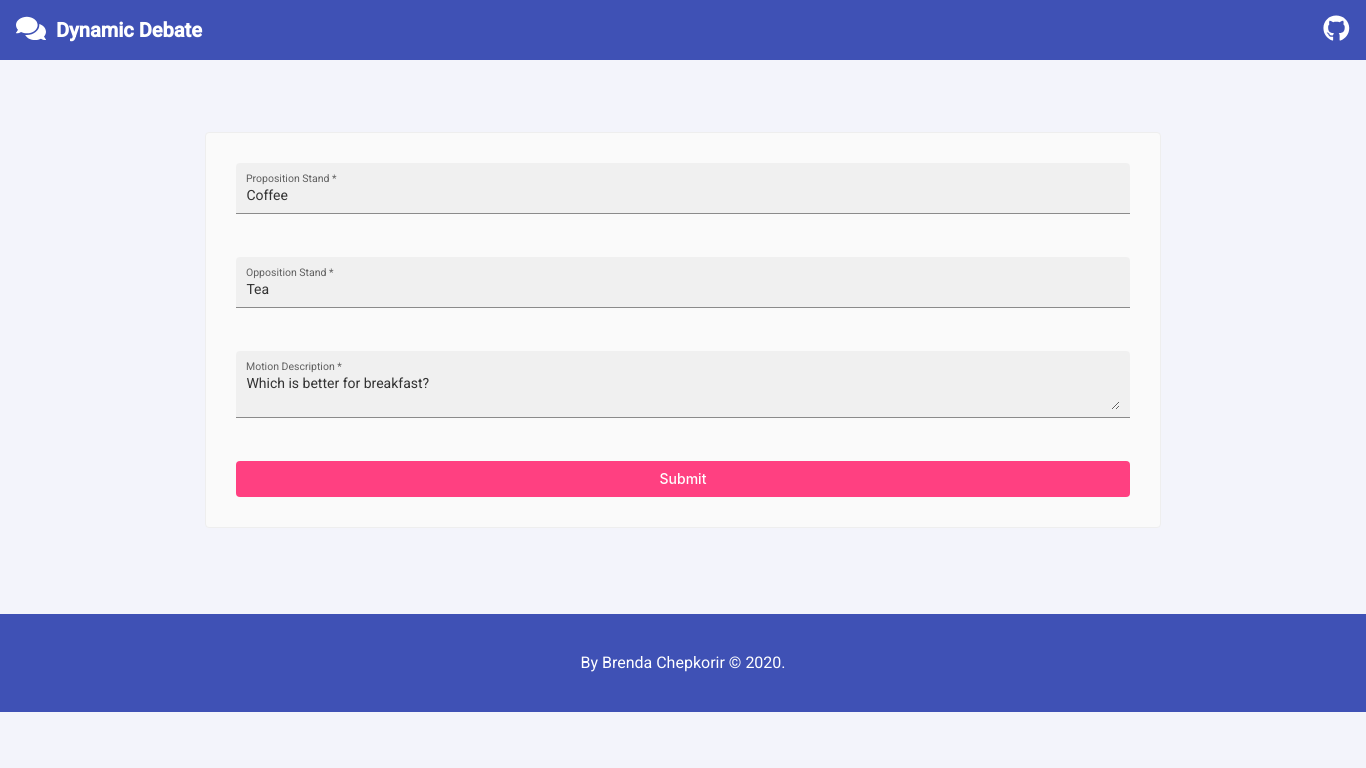
Test: Debate app should › allow a user to deduct from the proposition tally
Click the button with id "submit".
click(683, 479)  # box [236,461,1130,497]
(page scrolled)
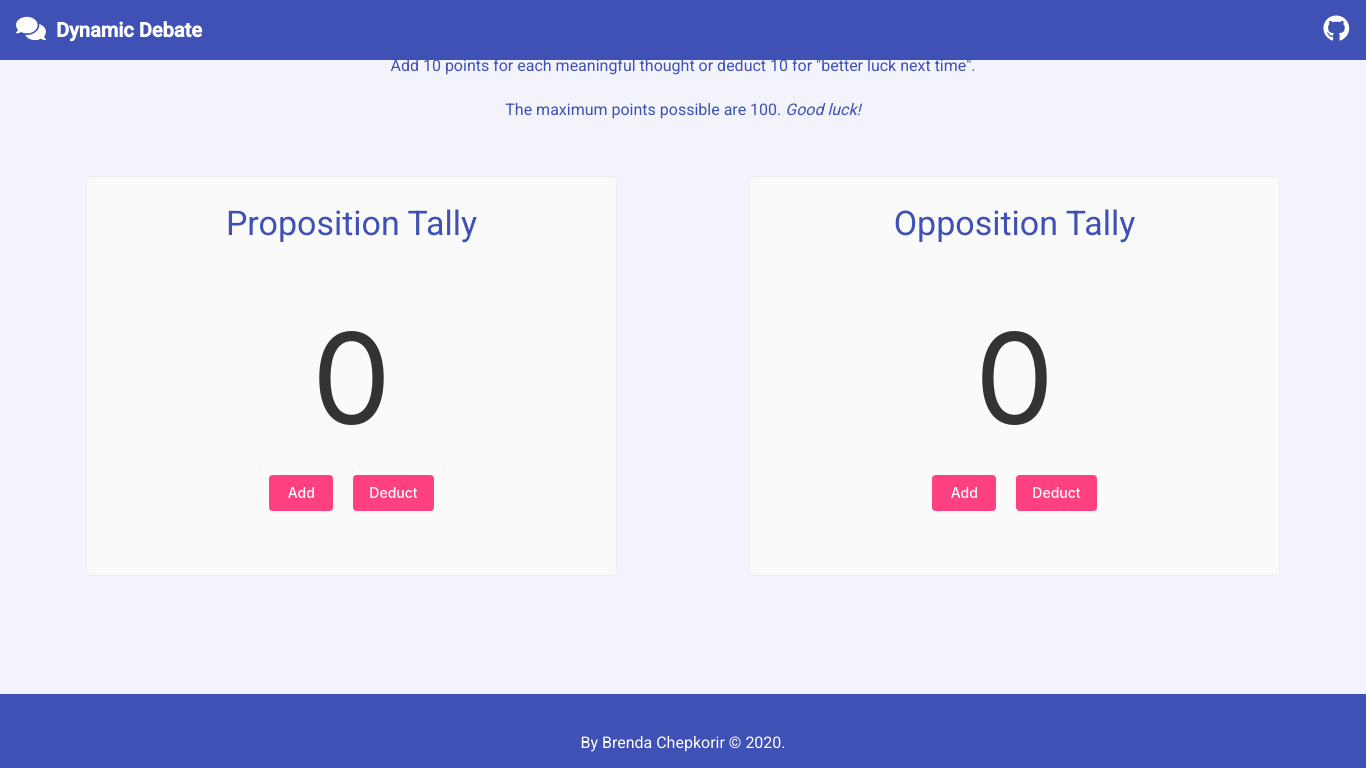
Expected: the heading "Proposition Tally" is shown, [226,203,477,243]
Expected: the button "Add" below "Proposition Tally" is shown
Click the button "Add" below "Proposition Tally".
click(301, 493)  # box [269,475,333,511]
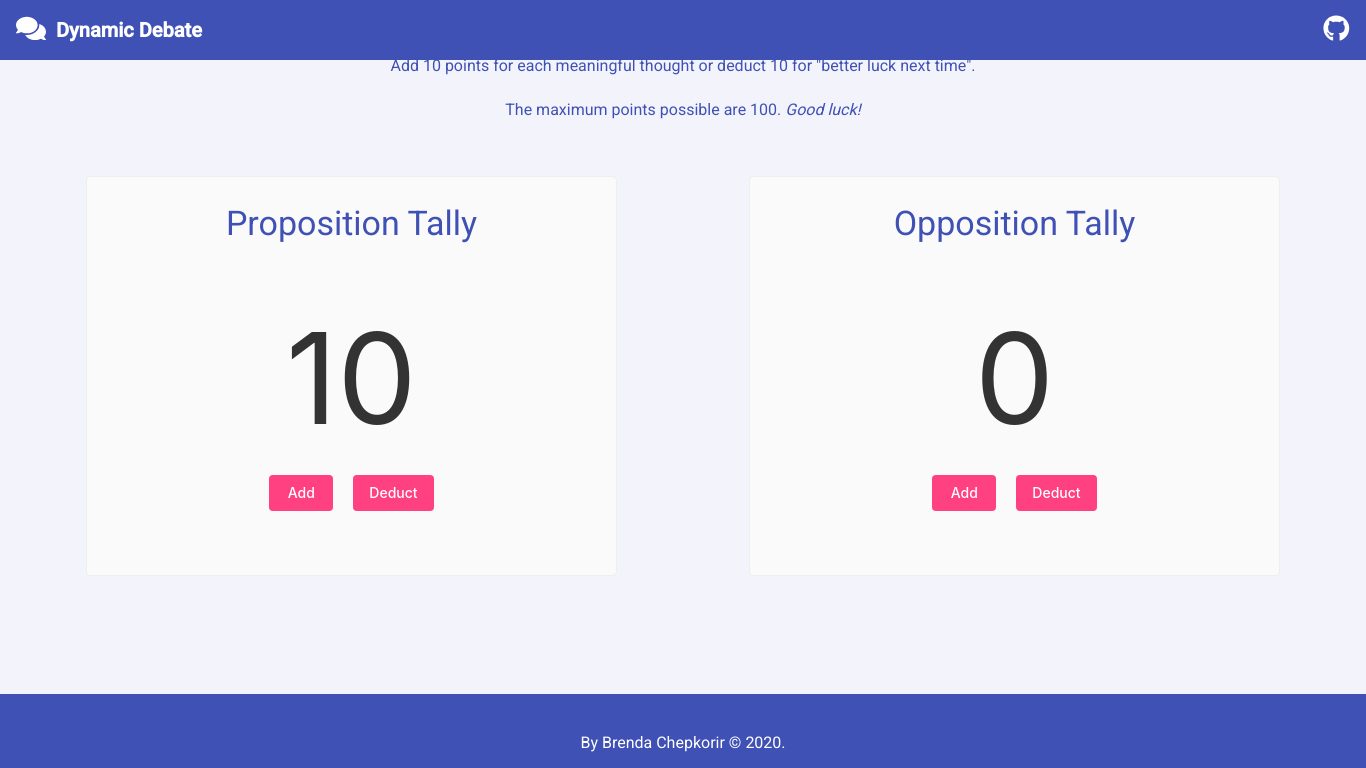
Expected: the button "Deduct" below "Proposition Tally" is shown
Expected: the text with class "tally" reads "10", [286,302,417,454]
Click the button "Deduct" below "Proposition Tally".
click(393, 493)  # box [353,475,433,511]
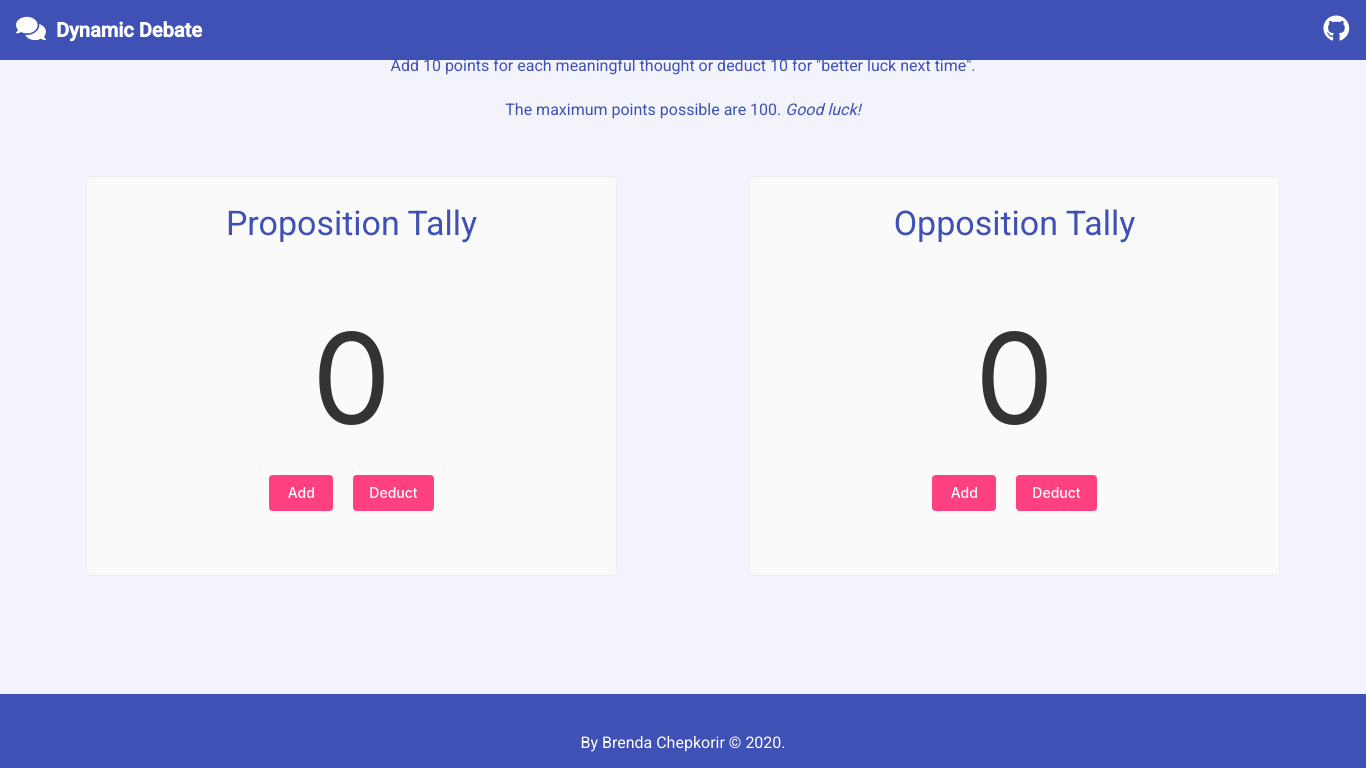
Expected: the text with class "tally" below "Proposition Tally" reads "0", [312,302,392,454]
